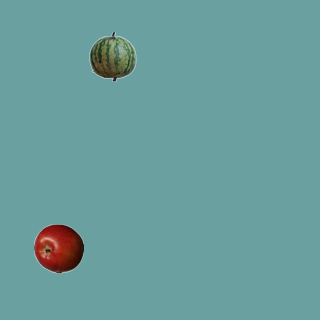Apple Braeburn: (33, 223, 83, 273)
Watermelon: (87, 31, 137, 81)
